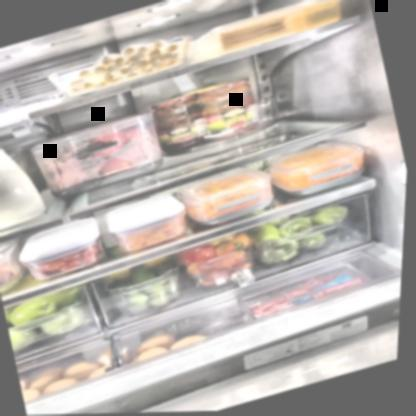apple: (12, 292, 68, 329), (46, 305, 93, 337), (11, 323, 46, 353)
cheese: (216, 2, 341, 55)
green_bell_pepper: (258, 239, 305, 271), (278, 214, 319, 243), (315, 203, 354, 231), (253, 223, 285, 251), (303, 233, 332, 253)
tomato: (35, 257, 69, 276), (193, 245, 220, 264)
tomato_paste: (195, 77, 263, 143), (152, 93, 212, 155)
